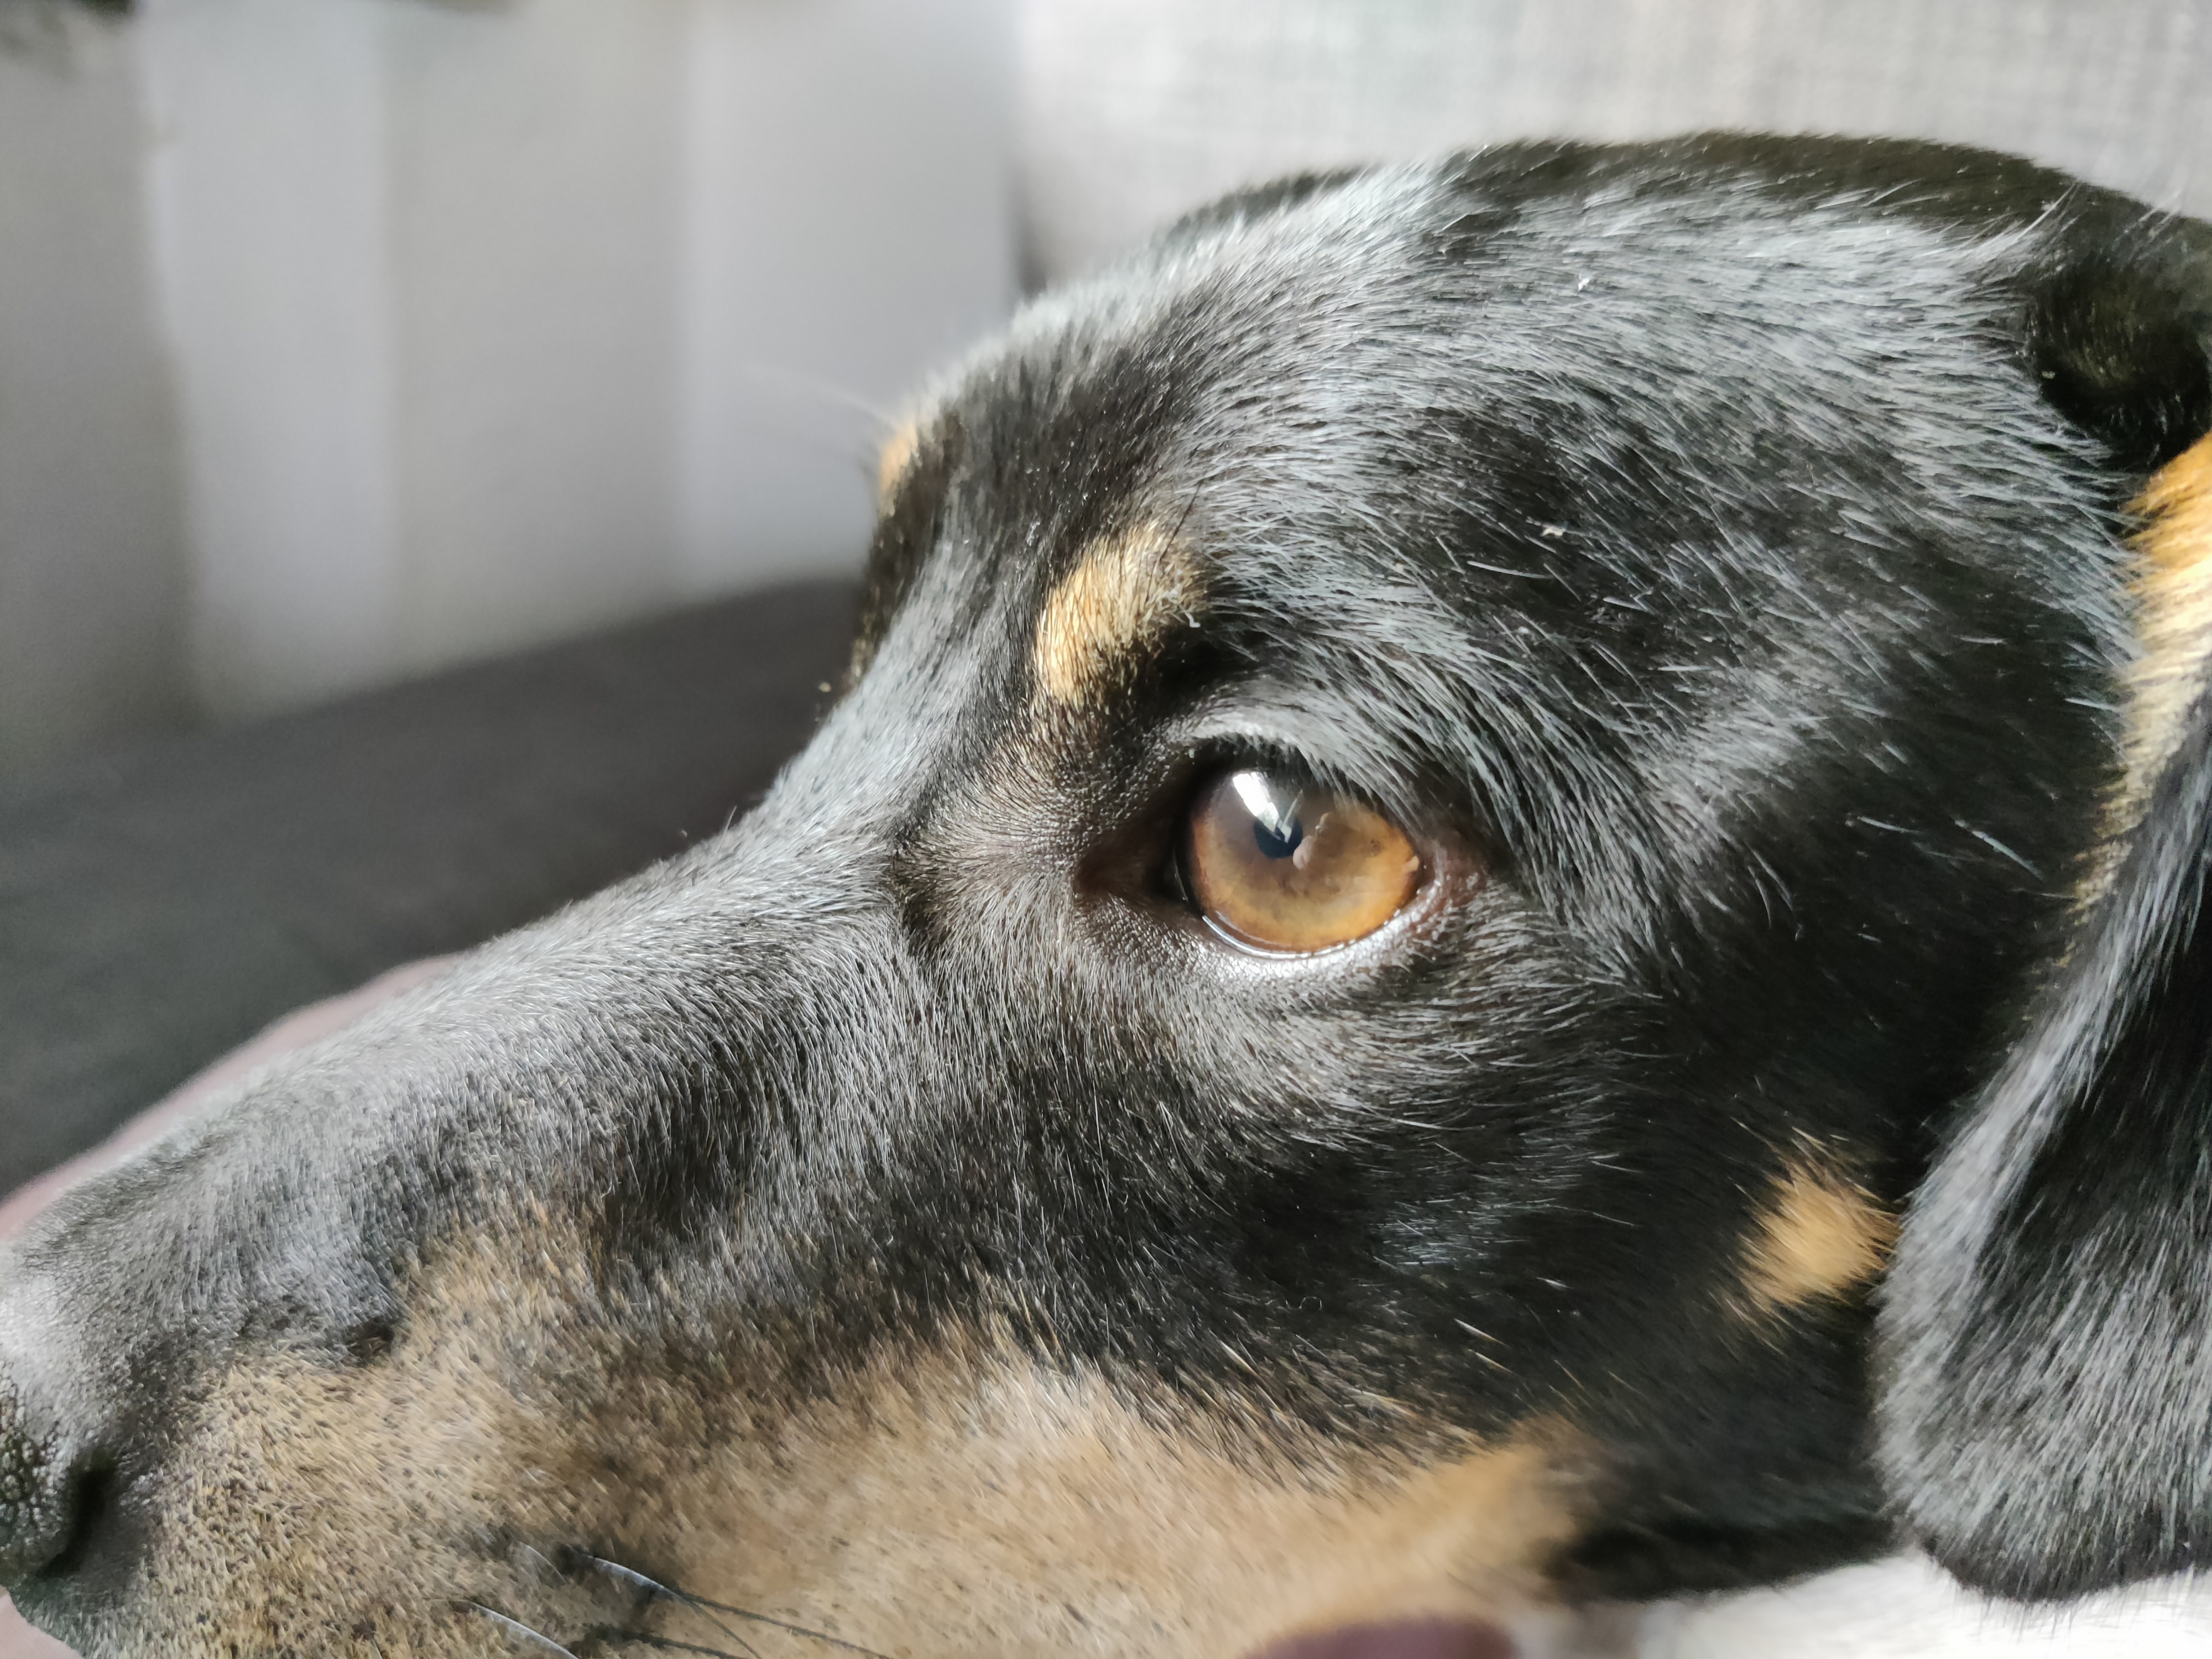Dog: (0, 120, 2212, 1659)
